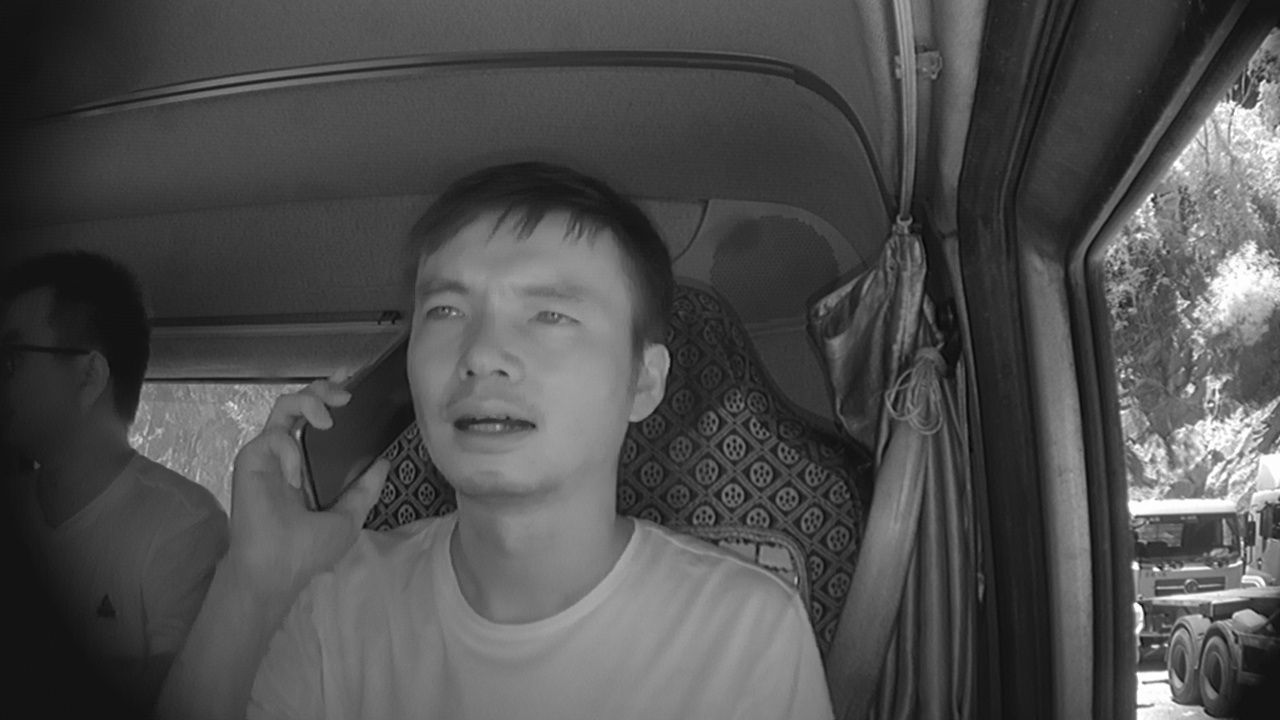hand: (230, 366, 387, 570)
